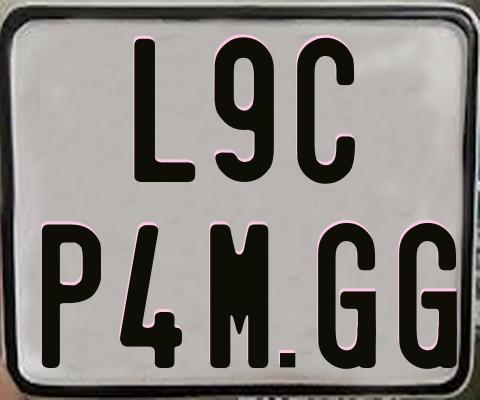4: (117, 225, 183, 373)
9: (214, 37, 276, 187)
C: (294, 35, 356, 187)
G: (315, 222, 378, 368), (396, 222, 455, 372)
L: (132, 37, 195, 183)
M: (207, 223, 269, 369)
P: (42, 221, 107, 370)
